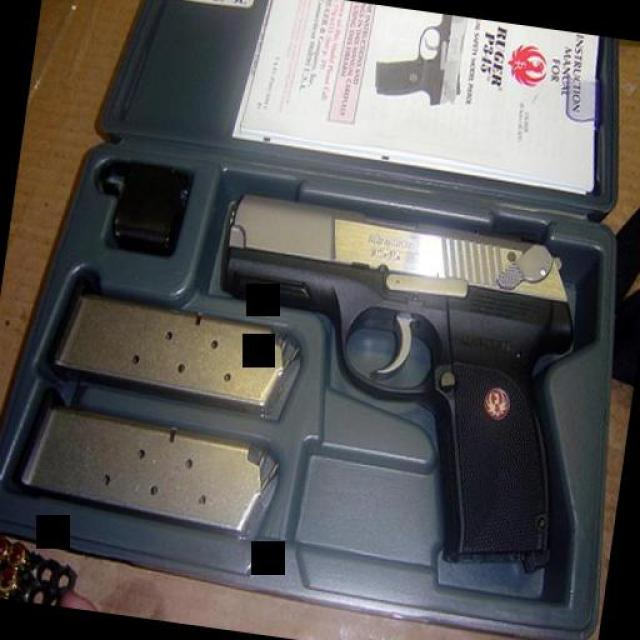gun: (186, 182, 596, 578)
